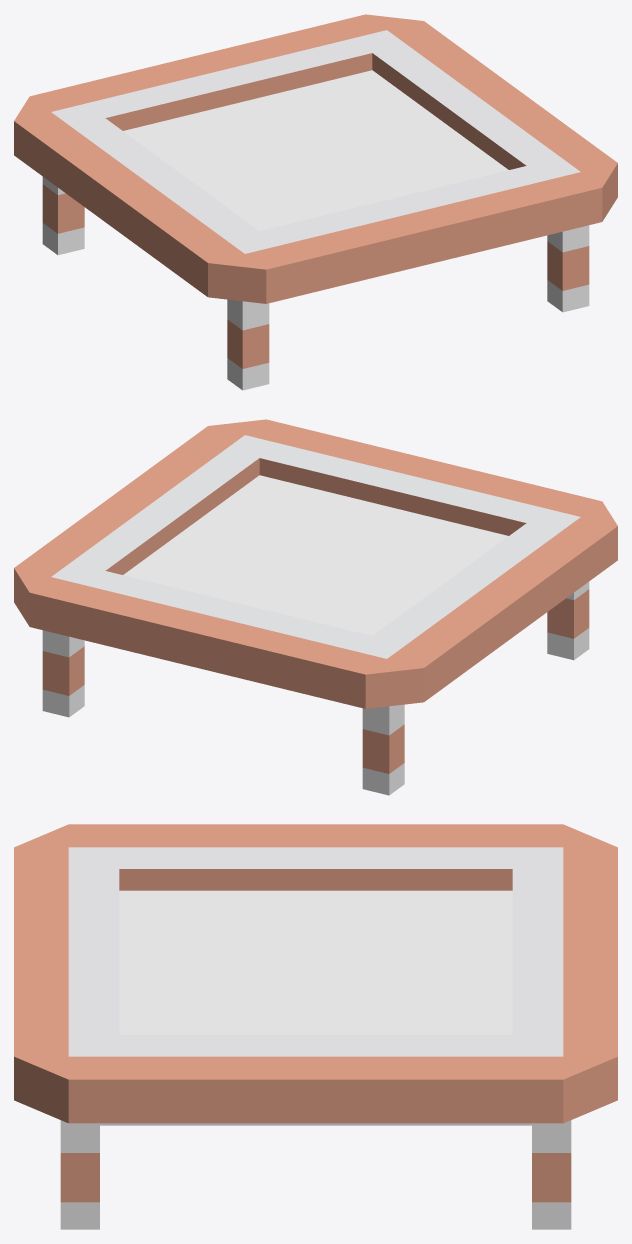
File: frameLowTile.glb
The picture shows the model from 3 angles, top to bottom: view 1: azimuth 30°, elevation 25°; view 2: azimuth 150°, elevation 25°; view 3: azimuth 270°, elevation 25°; orthographic projection. The views are drawn at different scales.
Parts seen in each view (by area): view 1: frameLowTile; view 2: frameLowTile; view 3: frameLowTile.
Boxes of the visible parts, left/top/right/bottom form: frameLowTile: left=14, top=14, right=617, bottom=390; frameLowTile: left=14, top=419, right=617, bottom=795; frameLowTile: left=14, top=824, right=617, bottom=1229.
Bounding box in the file's own units: 10 × 3.1 × 10.
